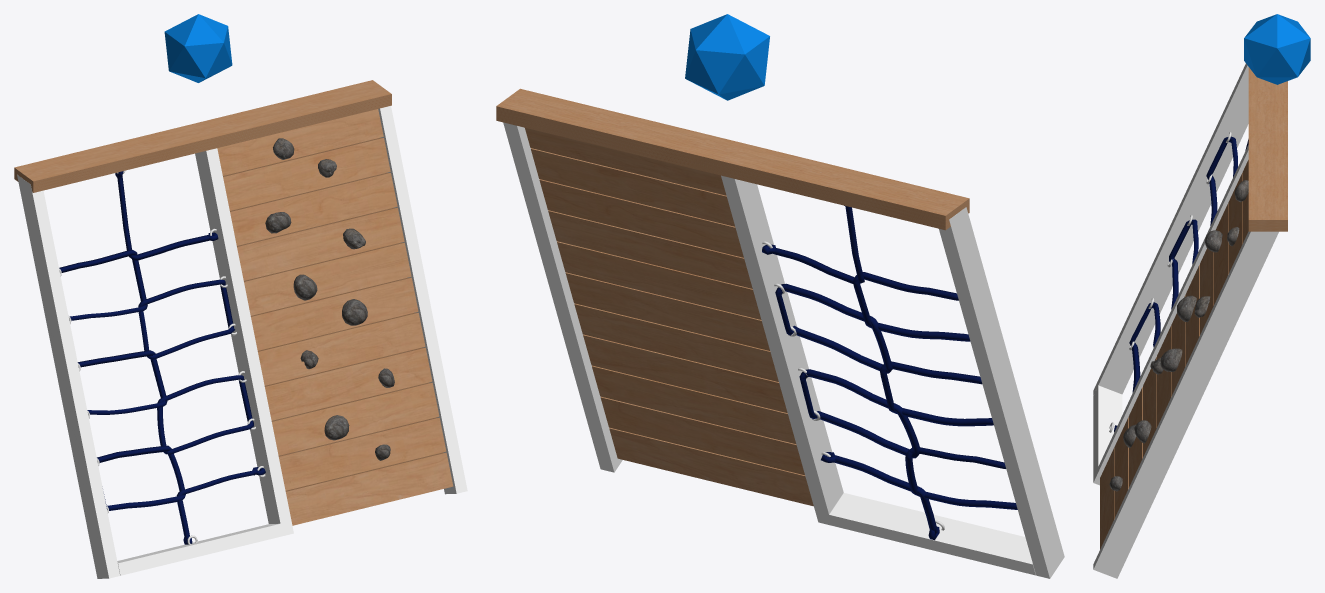
File: Combo climbing.glb
3 views of the same model, side by side, from view 1: azimuth 30°, elevation 25°; view 2: azimuth 150°, elevation 25°; view 3: azimuth 270°, elevation 25° (orthographic). The views are drawn at different scales.
Parts seen in each view (by area): view 1: Cube.111, Joint Poly.009; view 2: Cube.111, Joint Poly.009; view 3: Cube.111, Joint Poly.009.
Boxes of the visible parts, x1,y1,x2,y2 form: Cube.111: [14, 80, 467, 578]; Joint Poly.009: [164, 14, 232, 82]; Cube.111: [496, 88, 1064, 578]; Joint Poly.009: [685, 14, 769, 100]; Cube.111: [1093, 63, 1287, 578]; Joint Poly.009: [1244, 14, 1310, 84].
Size of the model in its own units: 1.65 by 2.04 by 0.8462.
Materials: 6 (3 with a texture image).
